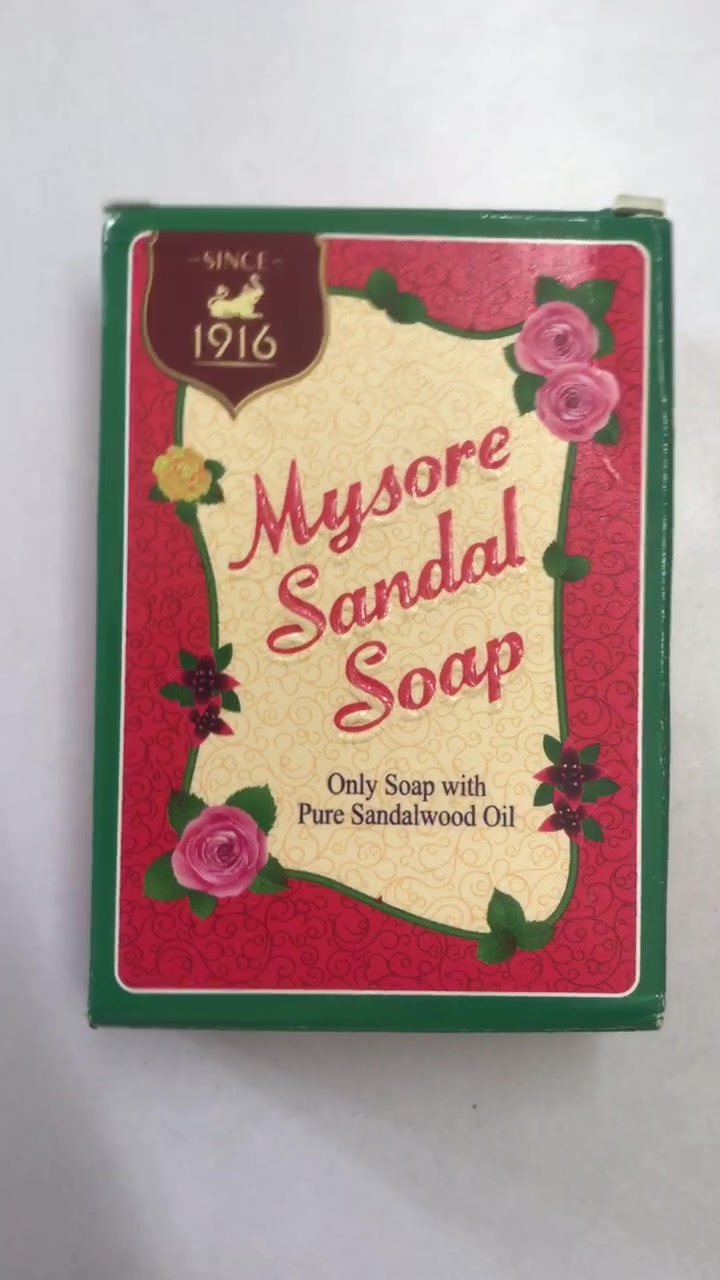mysore sandal soap: (98, 205, 666, 1032)
